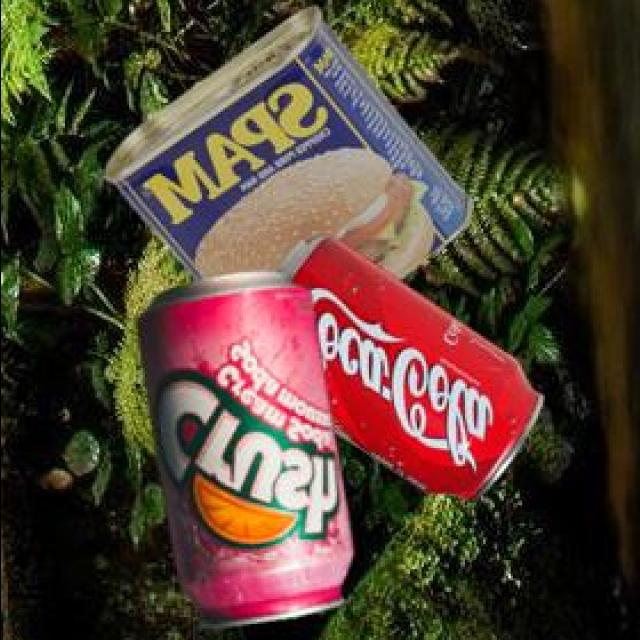logam: (99, 3, 467, 278), (131, 269, 349, 622), (271, 232, 538, 499)
